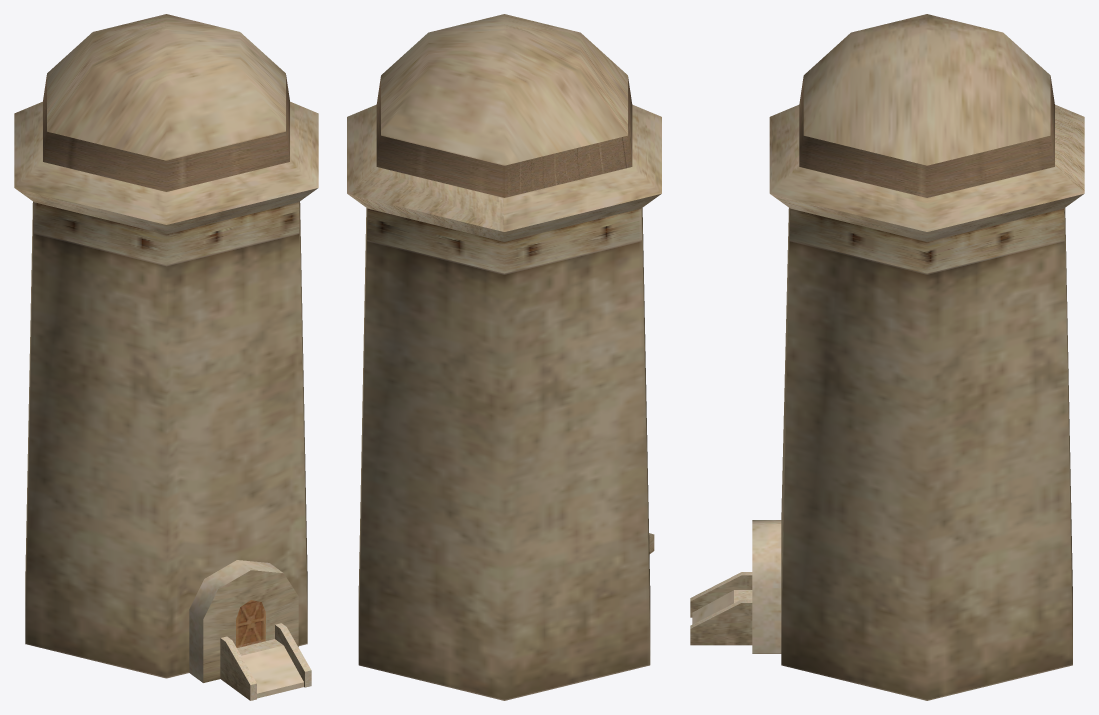
Rendered from thm_tato_imprv_building_s09_l2.fbx.
The picture shows the model from 3 angles, left to right: view 1: azimuth 30°, elevation 25°; view 2: azimuth 150°, elevation 25°; view 3: azimuth 270°, elevation 25°; orthographic projection. The views are drawn at different scales.
Visible parts, largest first — view 1: mesh_node; view 2: mesh_node; view 3: mesh_node.
Boxes of the visible parts, x1,y1,x2,y2 form: mesh_node: (14, 14, 318, 700); mesh_node: (347, 14, 661, 700); mesh_node: (690, 14, 1084, 700).
Bounding box in the file's own units: 21.87 × 39.78 × 23.71.
